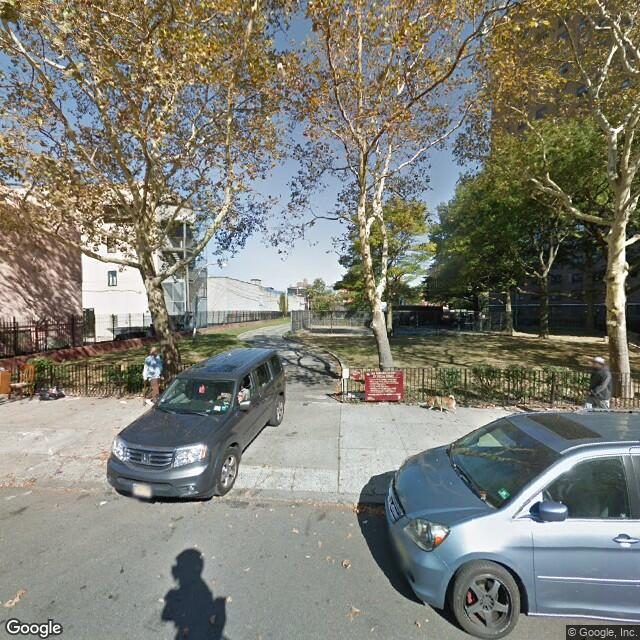litter: (344, 393, 359, 401), (97, 500, 105, 506), (155, 596, 163, 602), (5, 494, 14, 498), (424, 616, 430, 621), (22, 492, 29, 496), (118, 399, 125, 403), (362, 519, 366, 525)
